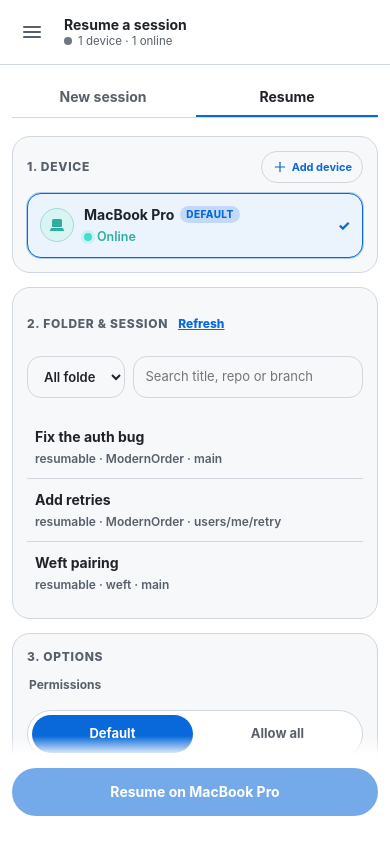
Scenario: StartSessionScreen — the resumable list › narrows the list as you type and restores it when cleared
In the search field named "search recent sessions": (248, 377) [132,356,363,398], type "retry"
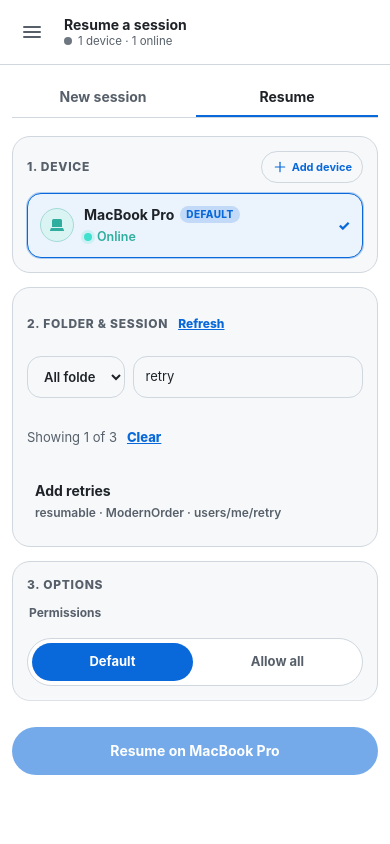
Now the text "Showing 1 of 3 Clear" is shown, box [27,416,163,460]
Click the button "Clear": (144, 438) [125,416,163,460]
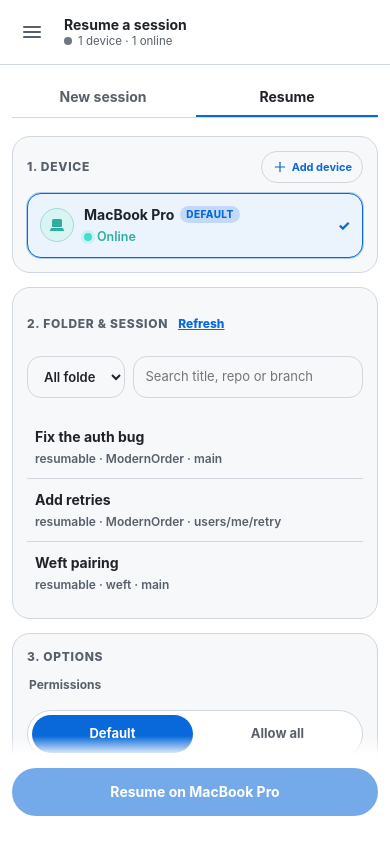
Now the text "Showing" is gone
